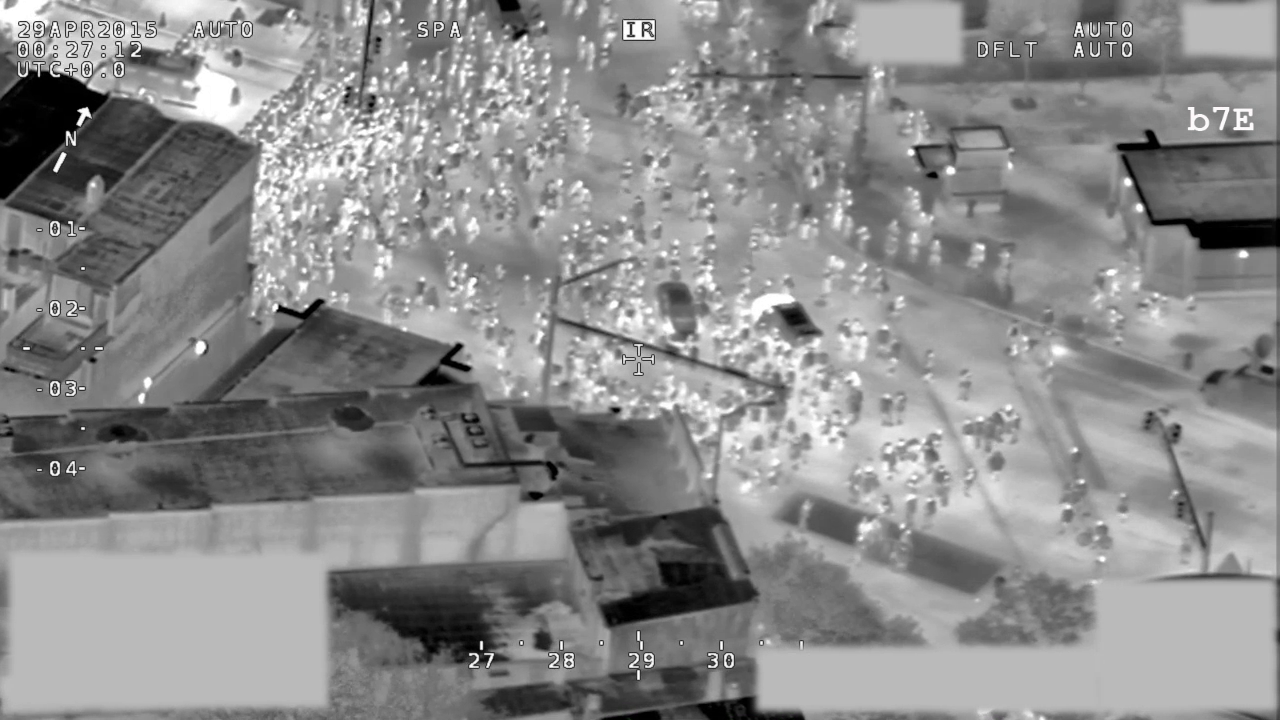vehicle: (108, 38, 247, 122), (1196, 322, 1280, 428), (738, 285, 831, 369), (645, 273, 713, 357)
